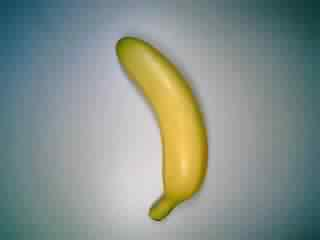banana: (110, 33, 215, 225)
